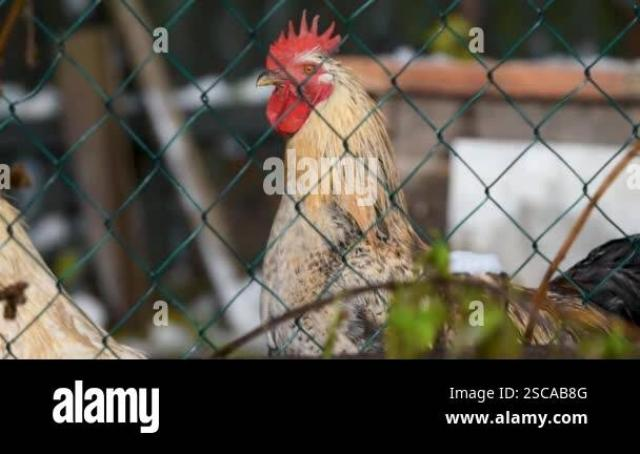Chicken: (255, 11, 640, 360)
